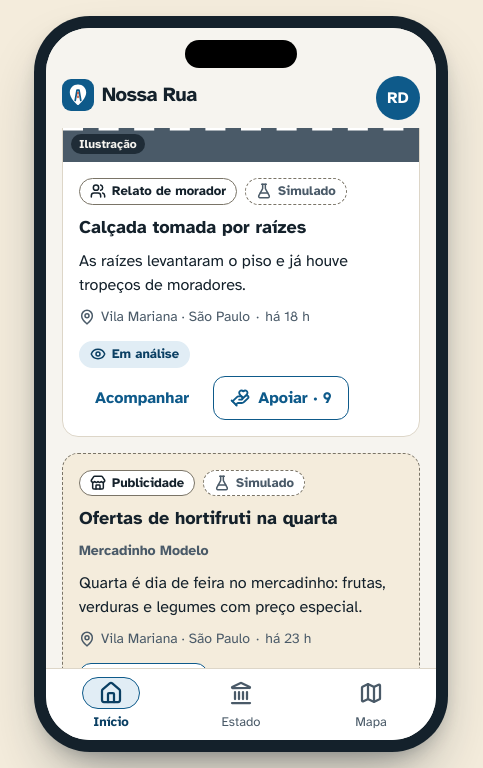
Test: conta de comércio › não apoia relatos e recebe uma explicação
(page scrolled)
Click the button "Apoiar · 9" at (281, 398), box [213,376,349,420]
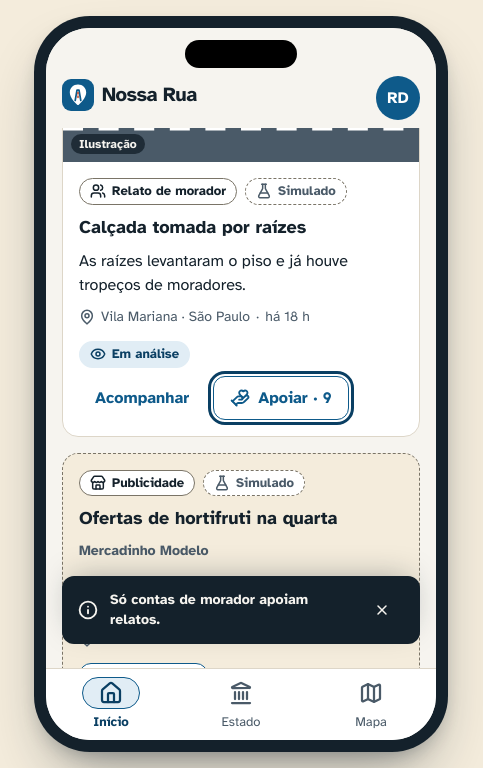
Now the text "Só contas de morador apoiam relatos." is shown, box [110,591,308,628]
